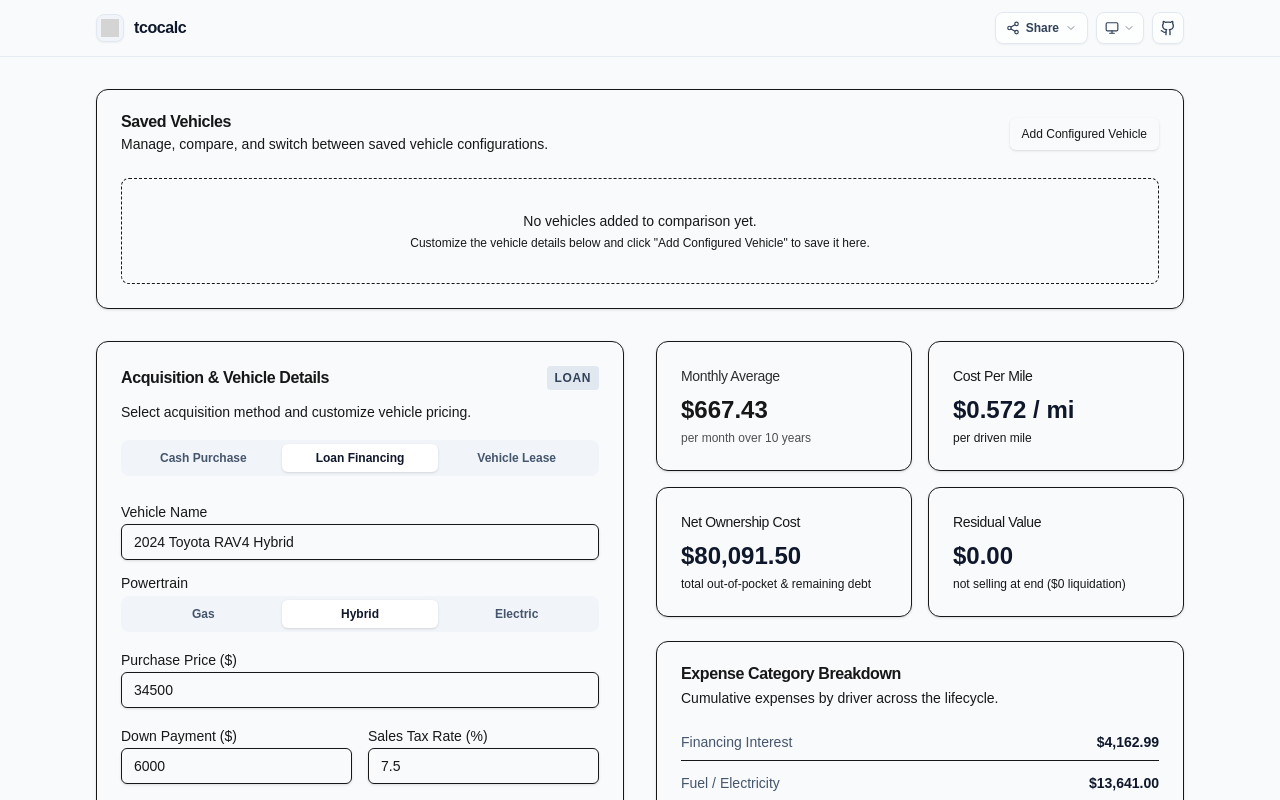
Test: Home Page Component › updates inputs when switching powertrain to electric
Click the radio button labelled "Electric" at (517, 614), box 438,600 -> 595,628
(page scrolled)
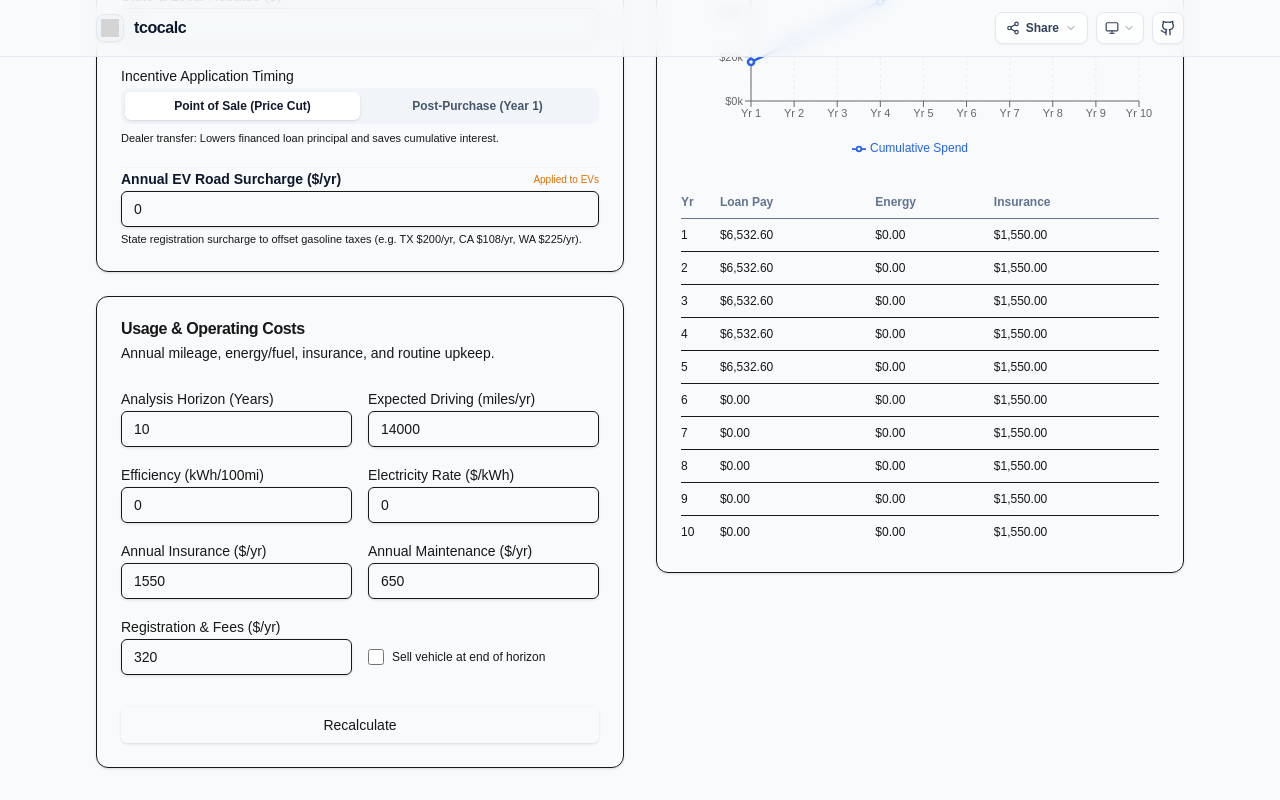
Result: the text "Efficiency (kWh/100mi)" is shown at 121,467 -> 264,483
